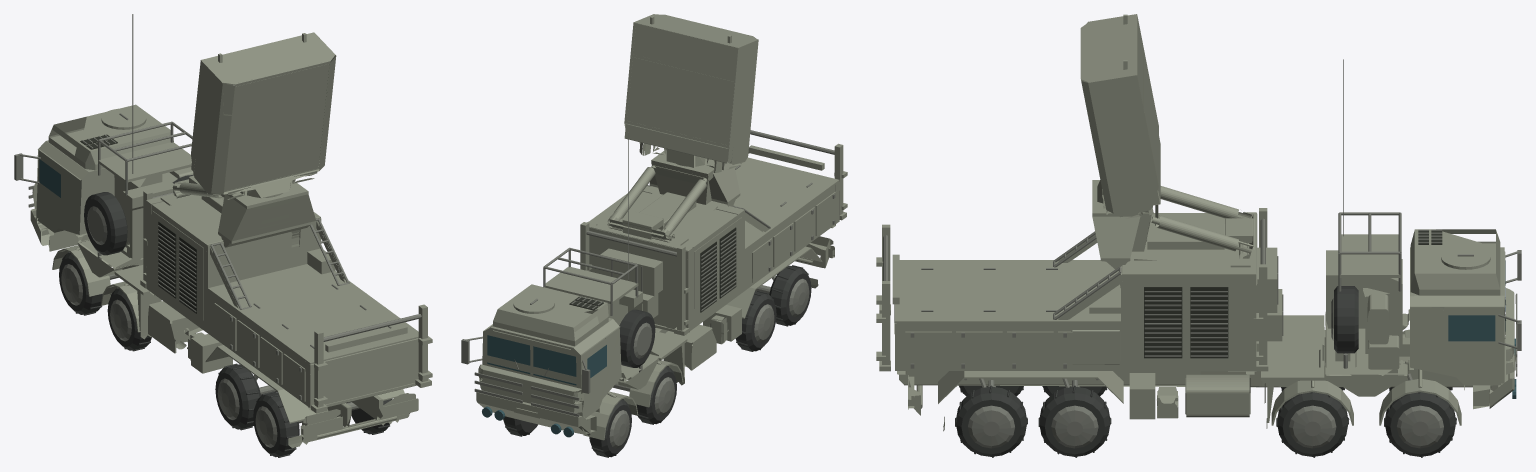
File: germ_iris_slm_fcs.glb
The picture shows the model from 3 angles, left to right: view 1: azimuth 30°, elevation 25°; view 2: azimuth 150°, elevation 25°; view 3: azimuth 270°, elevation 25°; orthographic projection. The views are drawn at different scales.
Visible parts, largest first — view 1: EquipmentShelter, RadarArray, FendersFuelTanksSpareWheelAndRack, HullArmour, ShelterHatchesGrillesAndLevellingLegs, EightPneumaticWheelsAxlesAndSuspension, RadarElevationPedestal, CabGlazingLightsMirrorsHatchAndAntenna, HydraulicOuterArms; view 2: EquipmentShelter, RadarArray, HullArmour, FendersFuelTanksSpareWheelAndRack, ShelterHatchesGrillesAndLevellingLegs, EightPneumaticWheelsAxlesAndSuspension, CabGlazingLightsMirrorsHatchAndAntenna, RadarElevationPedestal, HydraulicOuterArms; view 3: EquipmentShelter, HullArmour, EightPneumaticWheelsAxlesAndSuspension, ShelterHatchesGrillesAndLevellingLegs, FendersFuelTanksSpareWheelAndRack, RadarArray, CabGlazingLightsMirrorsHatchAndAntenna, RadarElevationPedestal, HydraulicOuterArms.
Part boxes in pixels (x1=…): EquipmentShelter: x1=146, y1=175, x2=418, y2=408; RadarArray: x1=191, y1=32, x2=336, y2=199; FendersFuelTanksSpareWheelAndRack: x1=52, y1=121, x2=418, y2=448; HullArmour: x1=30, y1=104, x2=416, y2=427; ShelterHatchesGrillesAndLevellingLegs: x1=140, y1=190, x2=432, y2=413; EightPneumaticWheelsAxlesAndSuspension: x1=59, y1=252, x2=392, y2=457; RadarElevationPedestal: x1=218, y1=180, x2=316, y2=247; CabGlazingLightsMirrorsHatchAndAntenna: x1=14, y1=14, x2=146, y2=207; HydraulicOuterArms: x1=172, y1=179, x2=221, y2=198; EquipmentShelter: x1=587, y1=145, x2=839, y2=331; RadarArray: x1=624, y1=14, x2=758, y2=172; HullArmour: x1=476, y1=224, x2=835, y2=435; FendersFuelTanksSpareWheelAndRack: x1=505, y1=236, x2=834, y2=440; ShelterHatchesGrillesAndLevellingLegs: x1=580, y1=130, x2=847, y2=335; EightPneumaticWheelsAxlesAndSuspension: x1=503, y1=265, x2=811, y2=457; CabGlazingLightsMirrorsHatchAndAntenna: x1=461, y1=132, x2=628, y2=437; RadarElevationPedestal: x1=649, y1=150, x2=740, y2=206; HydraulicOuterArms: x1=607, y1=167, x2=706, y2=242; EquipmentShelter: x1=892, y1=212, x2=1283, y2=371; HullArmour: x1=897, y1=229, x2=1515, y2=417; EightPneumaticWheelsAxlesAndSuspension: x1=955, y1=373, x2=1456, y2=457; ShelterHatchesGrillesAndLevellingLegs: x1=876, y1=208, x2=1268, y2=371; FendersFuelTanksSpareWheelAndRack: x1=908, y1=212, x2=1515, y2=431; RadarArray: x1=1080, y1=14, x2=1160, y2=218; CabGlazingLightsMirrorsHatchAndAntenna: x1=1343, y1=59, x2=1521, y2=398; RadarElevationPedestal: x1=1092, y1=180, x2=1151, y2=287; HydraulicOuterArms: x1=1155, y1=186, x2=1254, y2=258.
Bounding box in the file's own units: 2.93 × 7.21 × 10.77.
